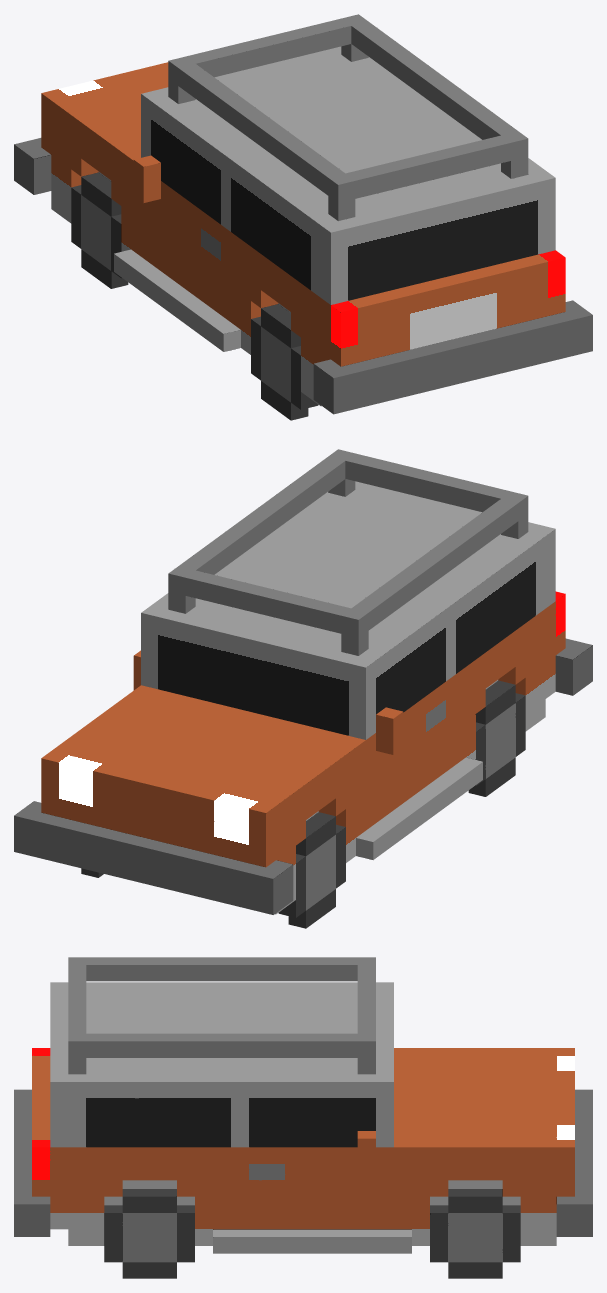
The model's file is te_Widget_ToyCar.glb.
3 renders of one model, top to bottom at view 1: azimuth 30°, elevation 25°; view 2: azimuth 150°, elevation 25°; view 3: azimuth 270°, elevation 25°, orthographic. The views are drawn at different scales.
Visible parts, largest first — view 1: Toy Car; view 2: Toy Car; view 3: Toy Car.
Boxes of the visible parts, bbox=[...] form: Toy Car: bbox=[14, 14, 592, 420]; Toy Car: bbox=[14, 449, 592, 928]; Toy Car: bbox=[14, 957, 592, 1278].
Size of the model in its own units: 0.2344 by 0.2188 by 0.5.
Materials: 1 (1 with a texture image).
